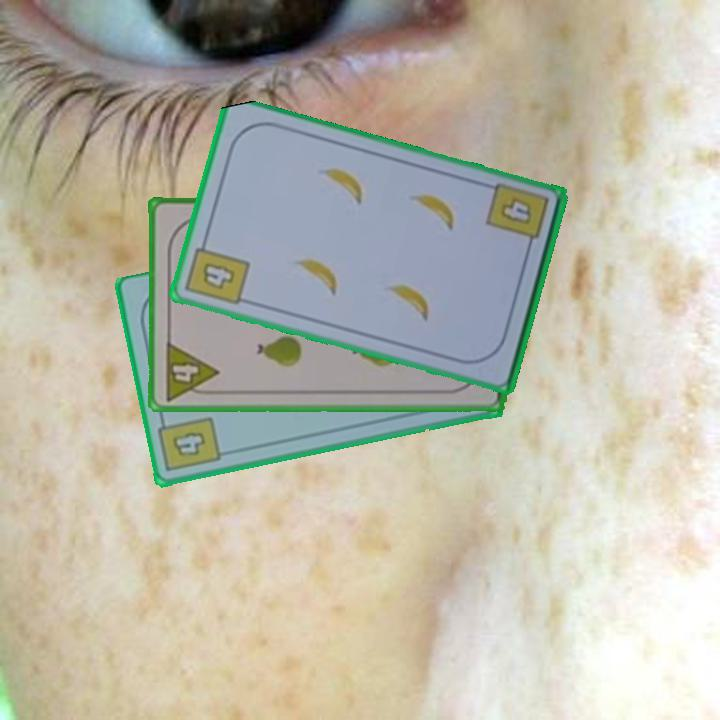4b: (182, 234, 253, 308), (482, 179, 551, 255), (155, 413, 224, 475)
4p: (161, 338, 221, 403)
